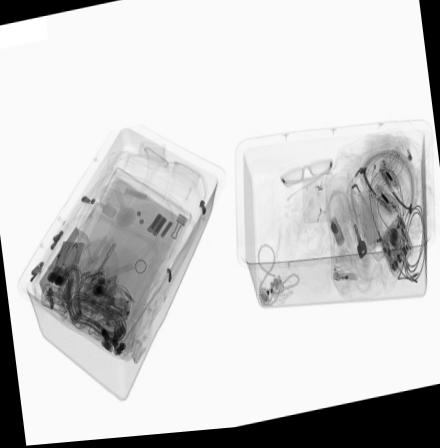Lighter: (333, 279, 358, 288)
